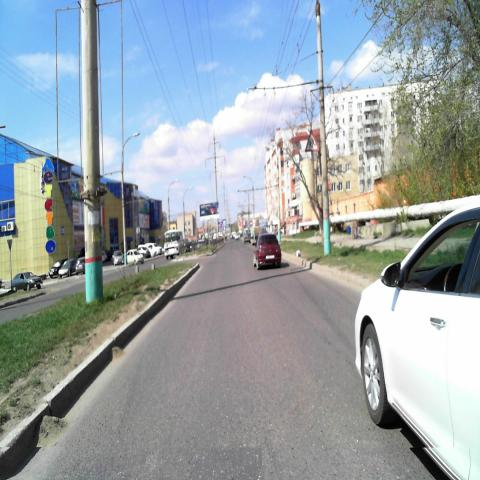1_23: (306, 131, 318, 153)
